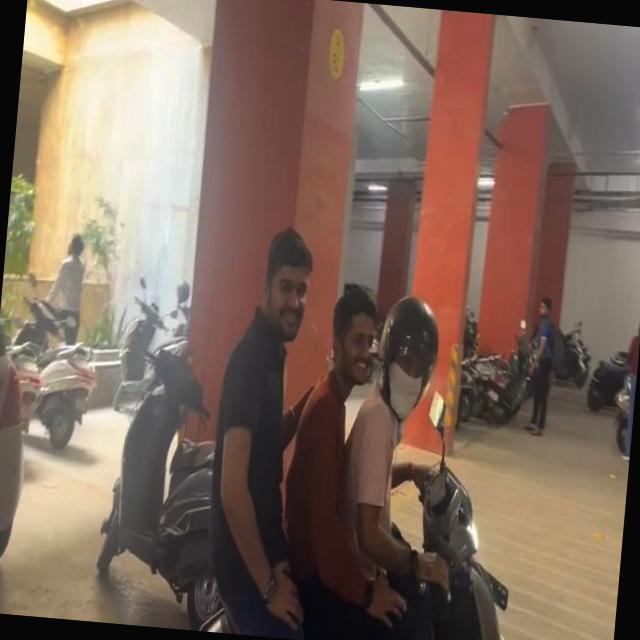motorcycle: (181, 444, 519, 640)
person: (200, 225, 323, 615), (266, 266, 386, 592), (342, 292, 460, 566)
rider_region: (198, 222, 547, 640)
